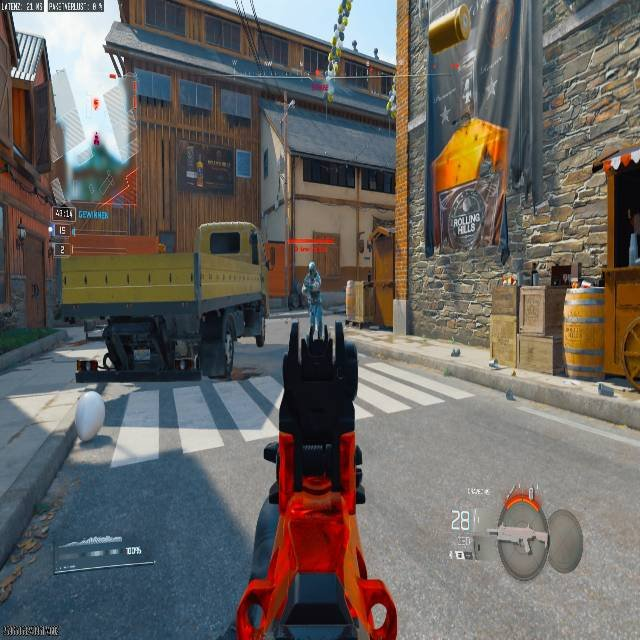head: (307, 260, 317, 273)
player: (302, 262, 322, 310)
